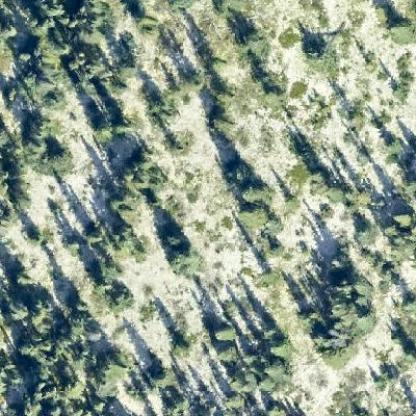tree-top: (163, 244, 210, 278), (233, 201, 271, 231), (384, 14, 415, 46), (148, 361, 178, 392), (86, 119, 119, 146), (45, 140, 73, 170), (206, 105, 237, 132), (264, 336, 293, 360), (210, 322, 238, 342)
